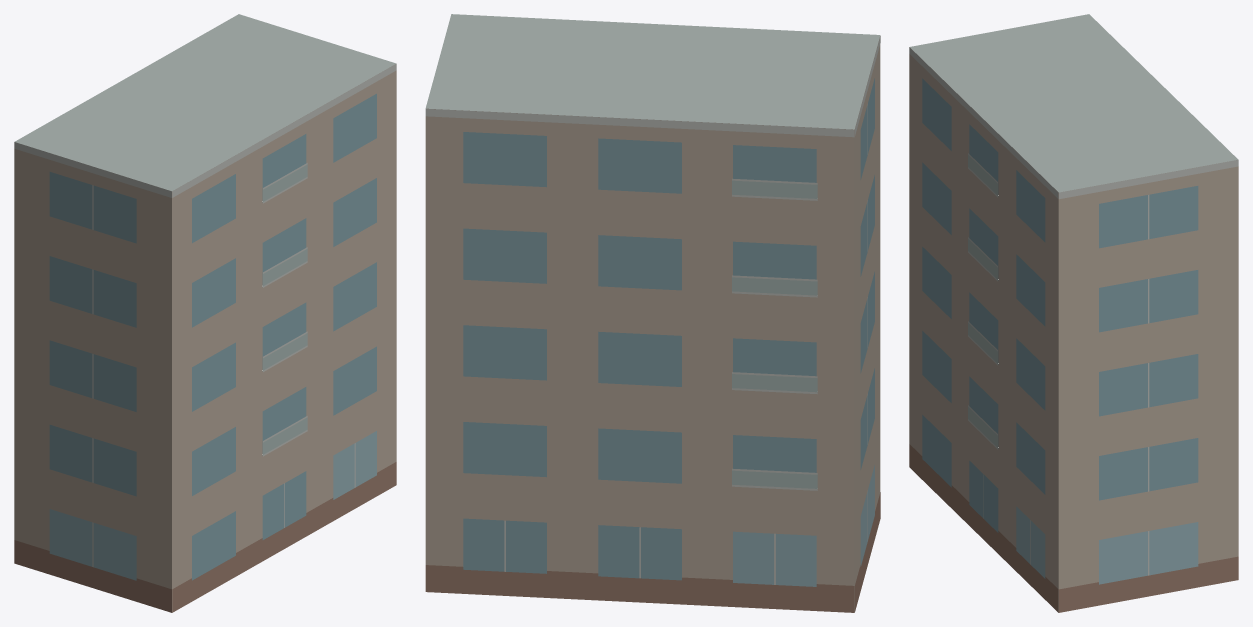
Rendered from residential-6d6a10ee-cacb-4d06-870e-f9a1e3575974.glb.
The picture shows the model from 3 angles, left to right: view 1: azimuth 30°, elevation 25°; view 2: azimuth 150°, elevation 25°; view 3: azimuth 270°, elevation 25°; orthographic projection. The views are drawn at different scales.
Visible parts, largest first — view 1: residential-6d6a10ee-cacb-4d06-870e-f9a1e3575974.tmp; view 2: residential-6d6a10ee-cacb-4d06-870e-f9a1e3575974.tmp; view 3: residential-6d6a10ee-cacb-4d06-870e-f9a1e3575974.tmp.
Boxes of the visible parts, bbox=[...] form: residential-6d6a10ee-cacb-4d06-870e-f9a1e3575974.tmp: bbox=[14, 14, 396, 612]; residential-6d6a10ee-cacb-4d06-870e-f9a1e3575974.tmp: bbox=[425, 14, 880, 612]; residential-6d6a10ee-cacb-4d06-870e-f9a1e3575974.tmp: bbox=[909, 14, 1238, 612].
Bounding box in the file's own units: 13.91 × 15.25 × 10.83.
